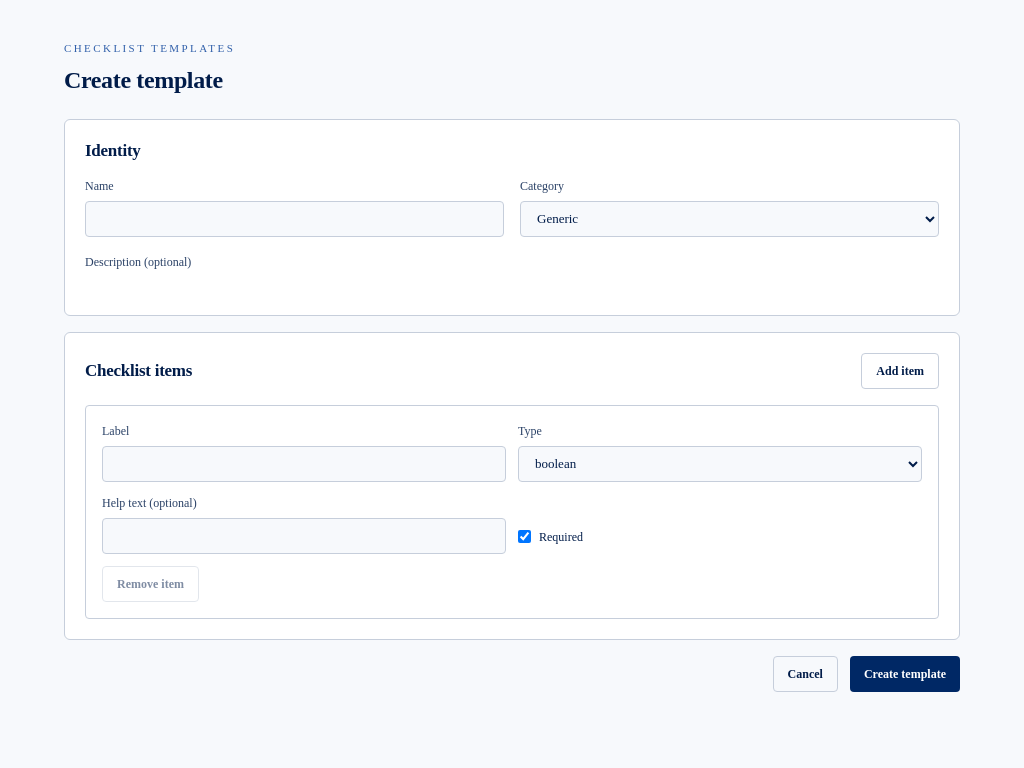
checklist template form page › rejects a select item with no options
Expected: the heading "Create template" is shown, [64,66,223,92]
Type "New Template" into the field labelled "Name". click: (294, 219)
box: [85,201,504,237]
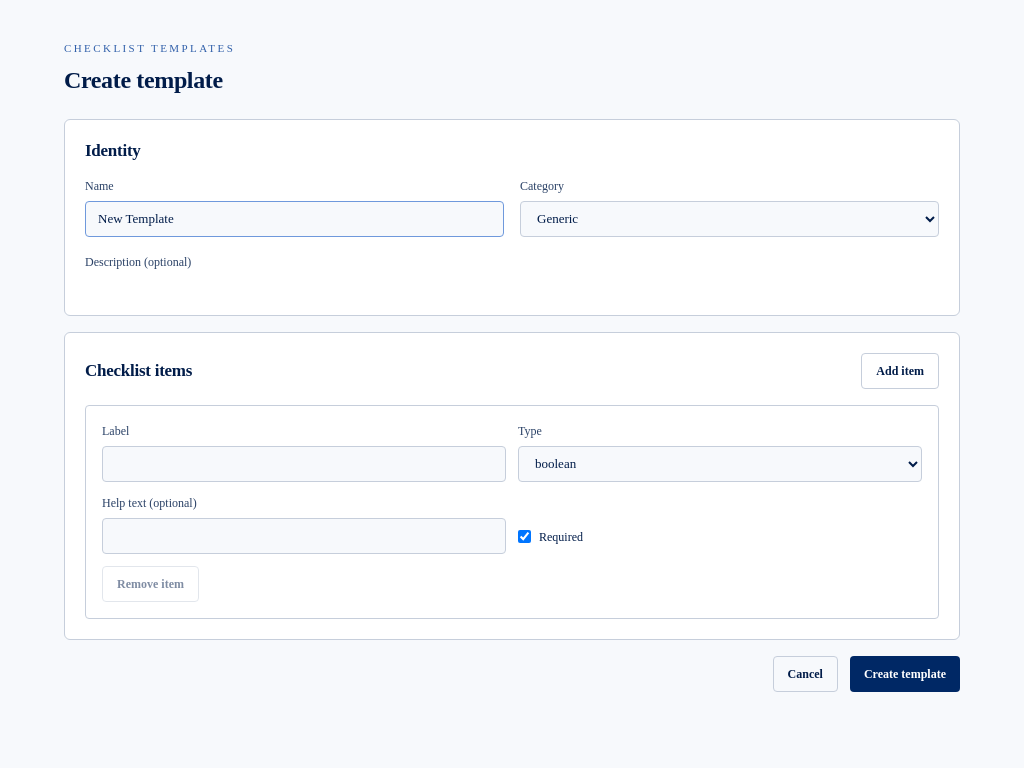
Type "Condition" into the field labelled "Label". click: (304, 464)
box: [102,446,506,482]
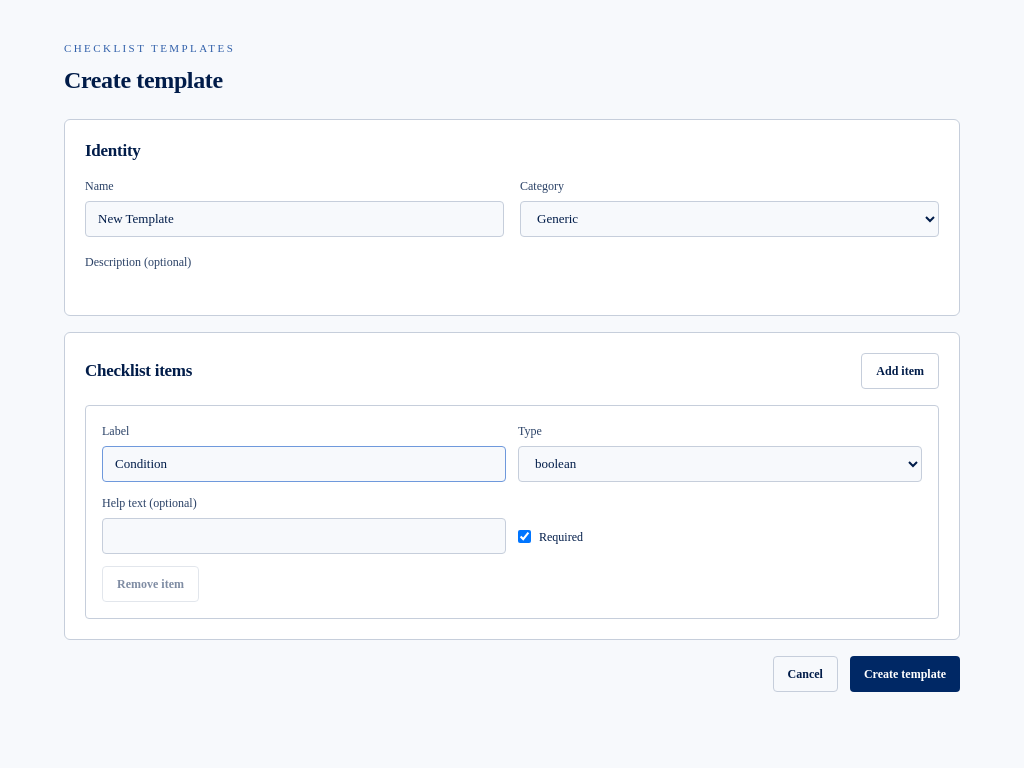
Select "select" in the dropdown labelled "Type". click: (720, 464)
box: [518,446,922,482]
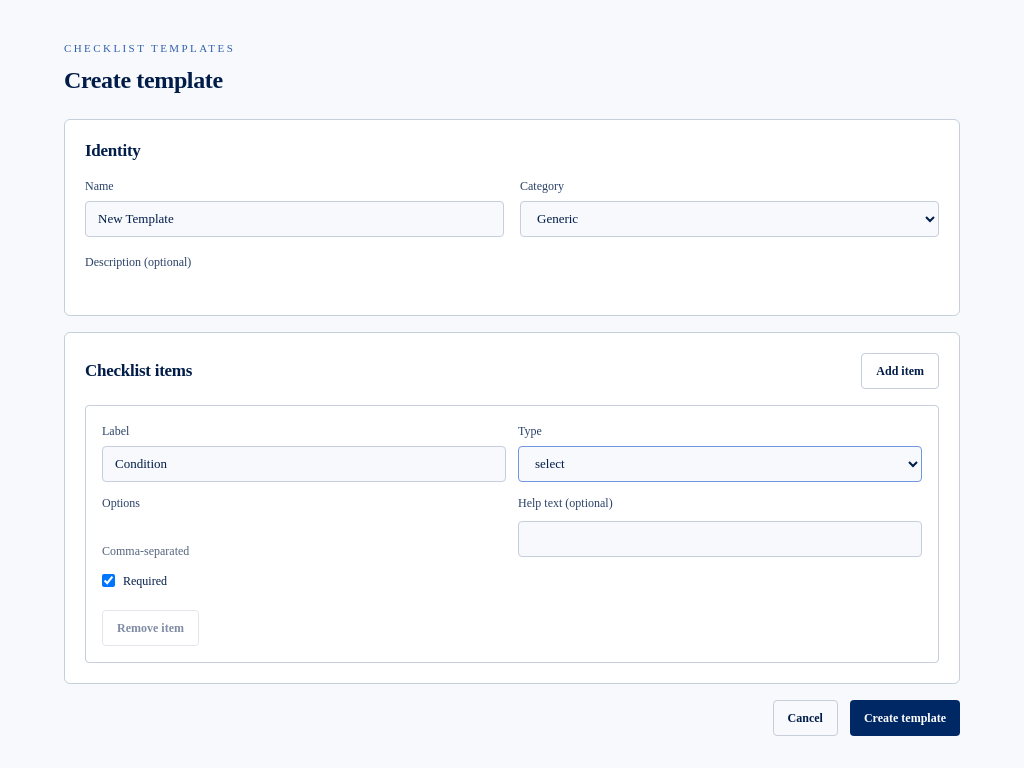
Click the button "Create template". click: (905, 718)
box: [850,700,960,736]
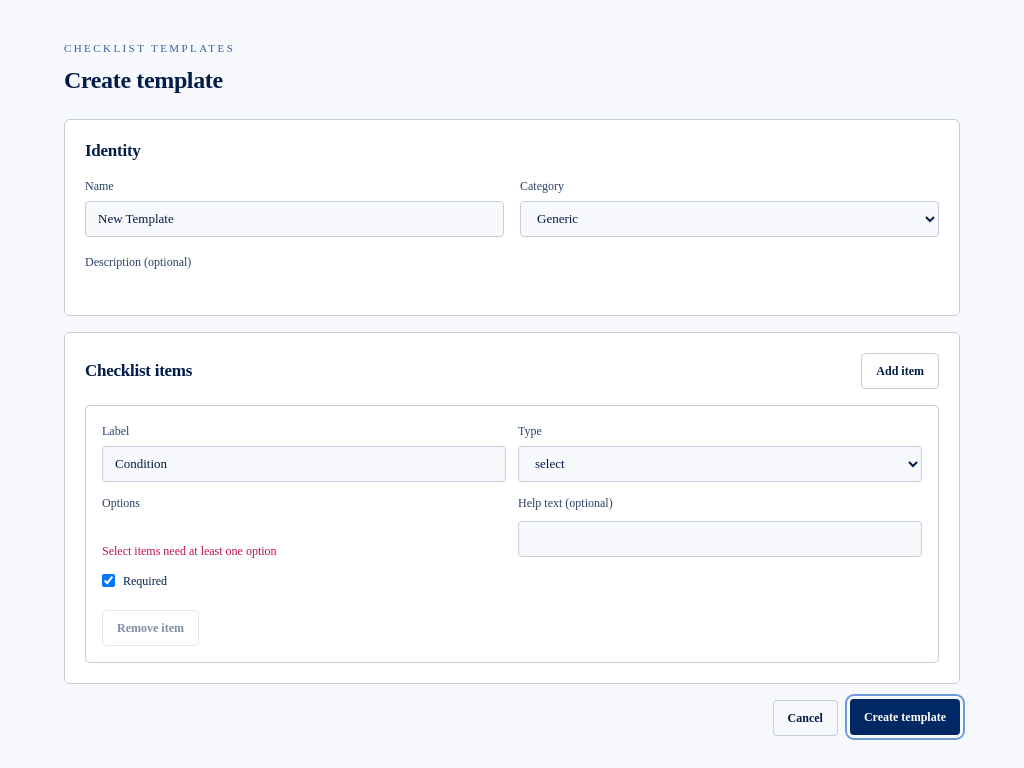
Expected: the text "Select items need at least one option" is shown, [102,544,277,558]
